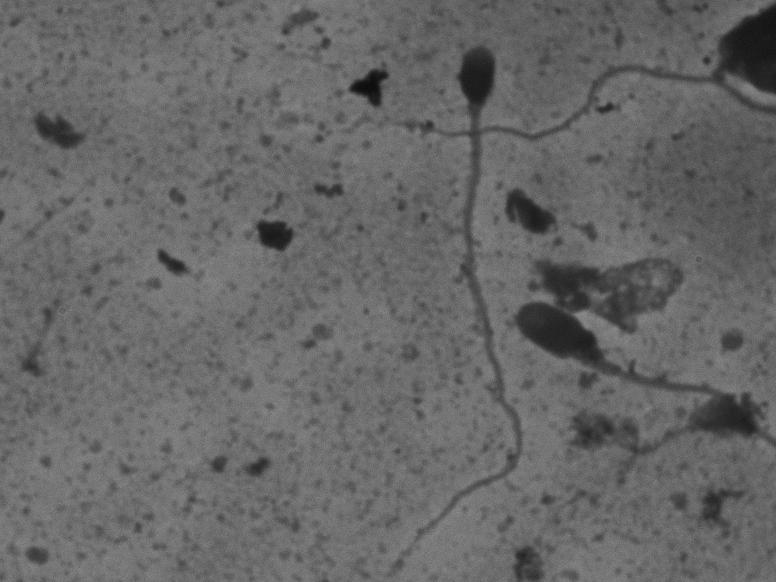Abnormal: (509, 294, 716, 398)
Normal: (387, 38, 535, 562)
